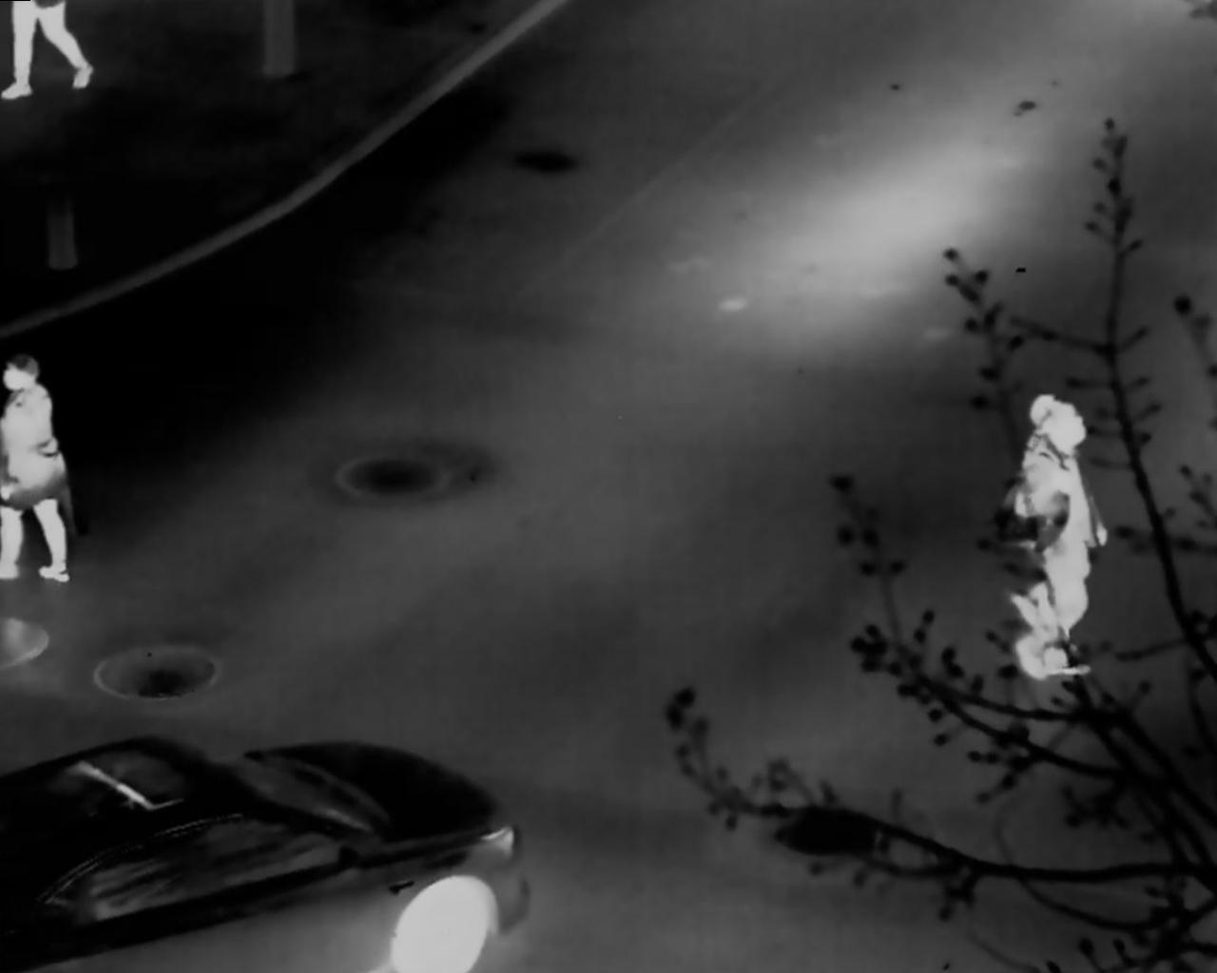person: (1012, 402, 1107, 682), (2, 357, 68, 584)
